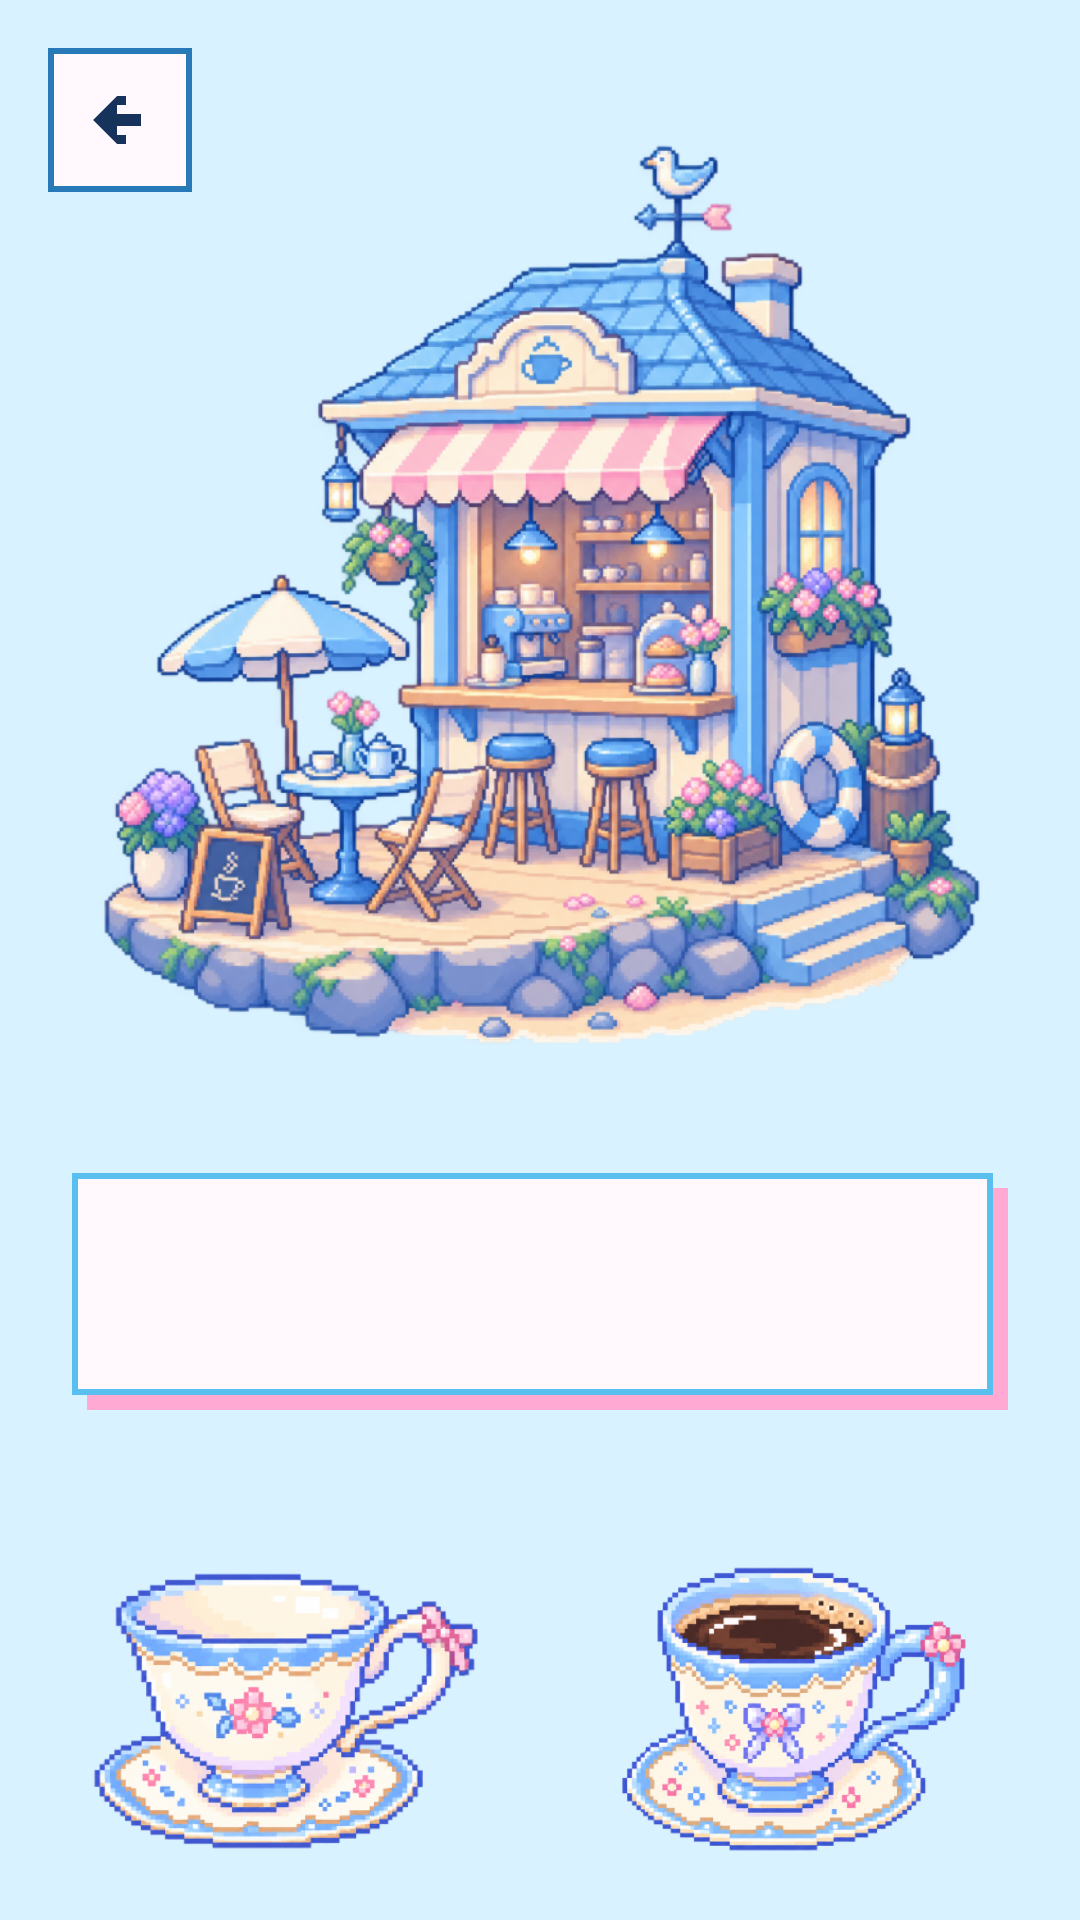

Screen size 1080px x 1920px. Icon name, then its center in pixels as (x=x, y=y):
Back to Little Blue World: (x=120, y=120)
coffee: (x=794, y=1709)
